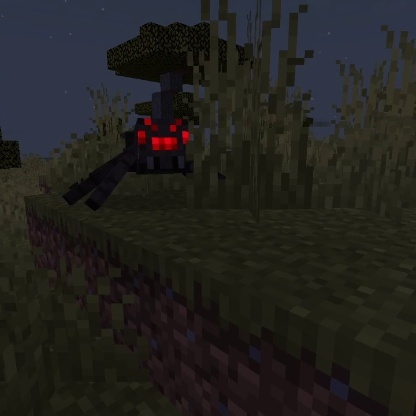spider: (60, 112, 202, 214)
